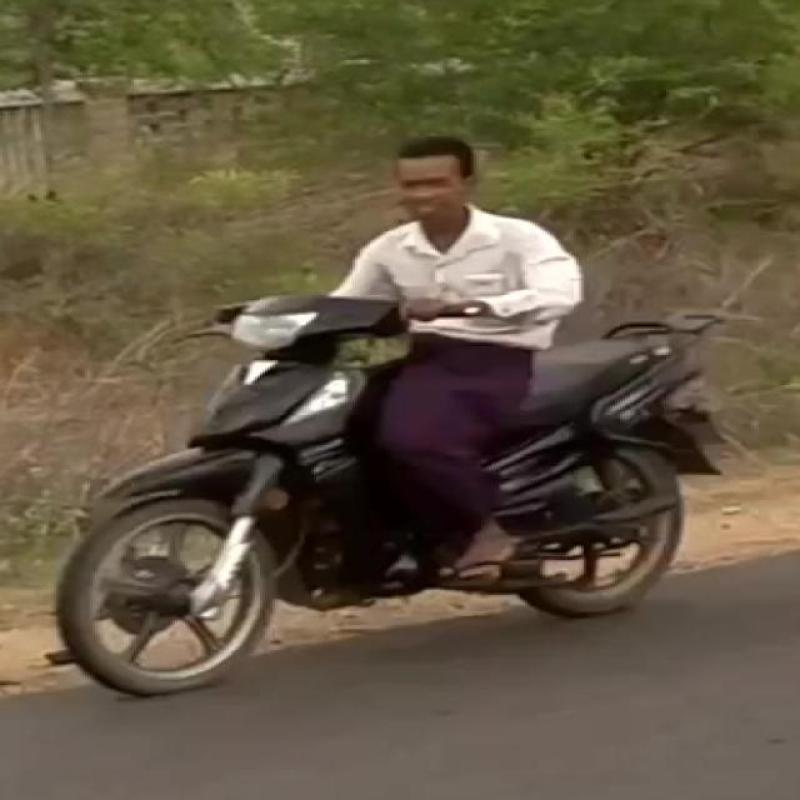nohelmet: (344, 127, 508, 245)
